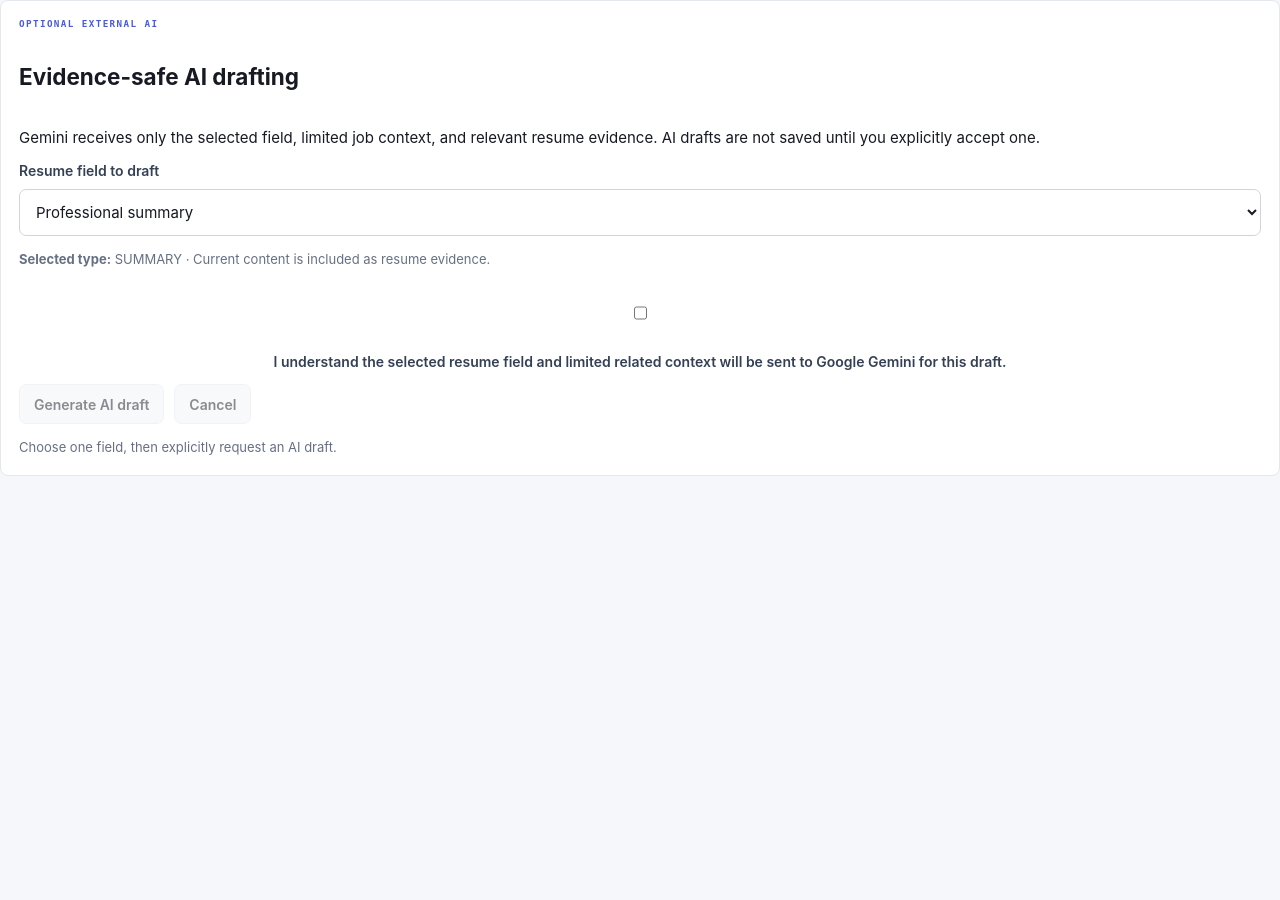
Test: AiDraftPanel › keeps retry explicit after a normalized failure
Click the checkbox labelled "I understand the selected resume field" at (640, 313), box [634,285,647,341]
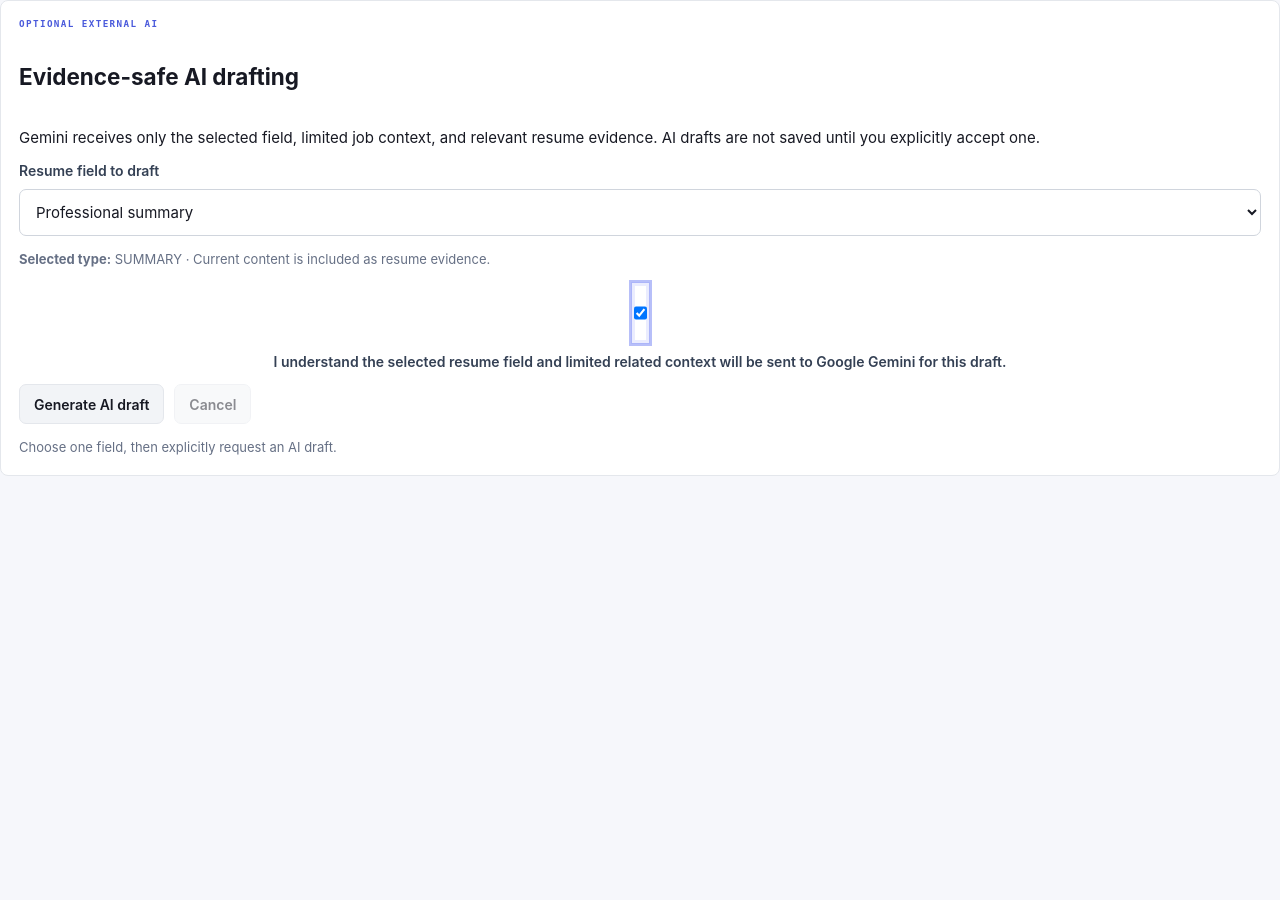
Click the button "Generate AI draft" at (92, 404), box [19,384,164,424]
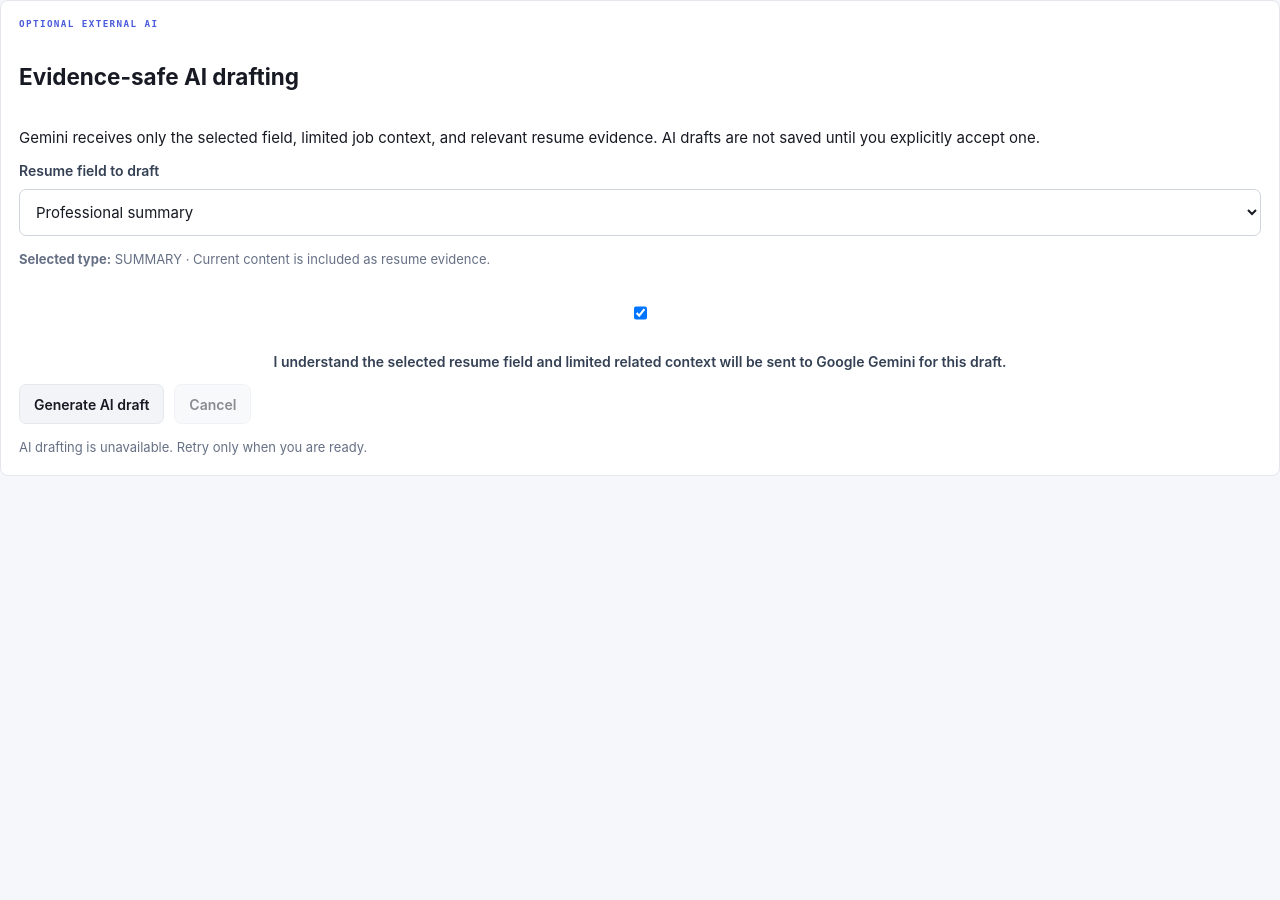
Click the button "Generate AI draft" at (92, 404), box [19,384,164,424]
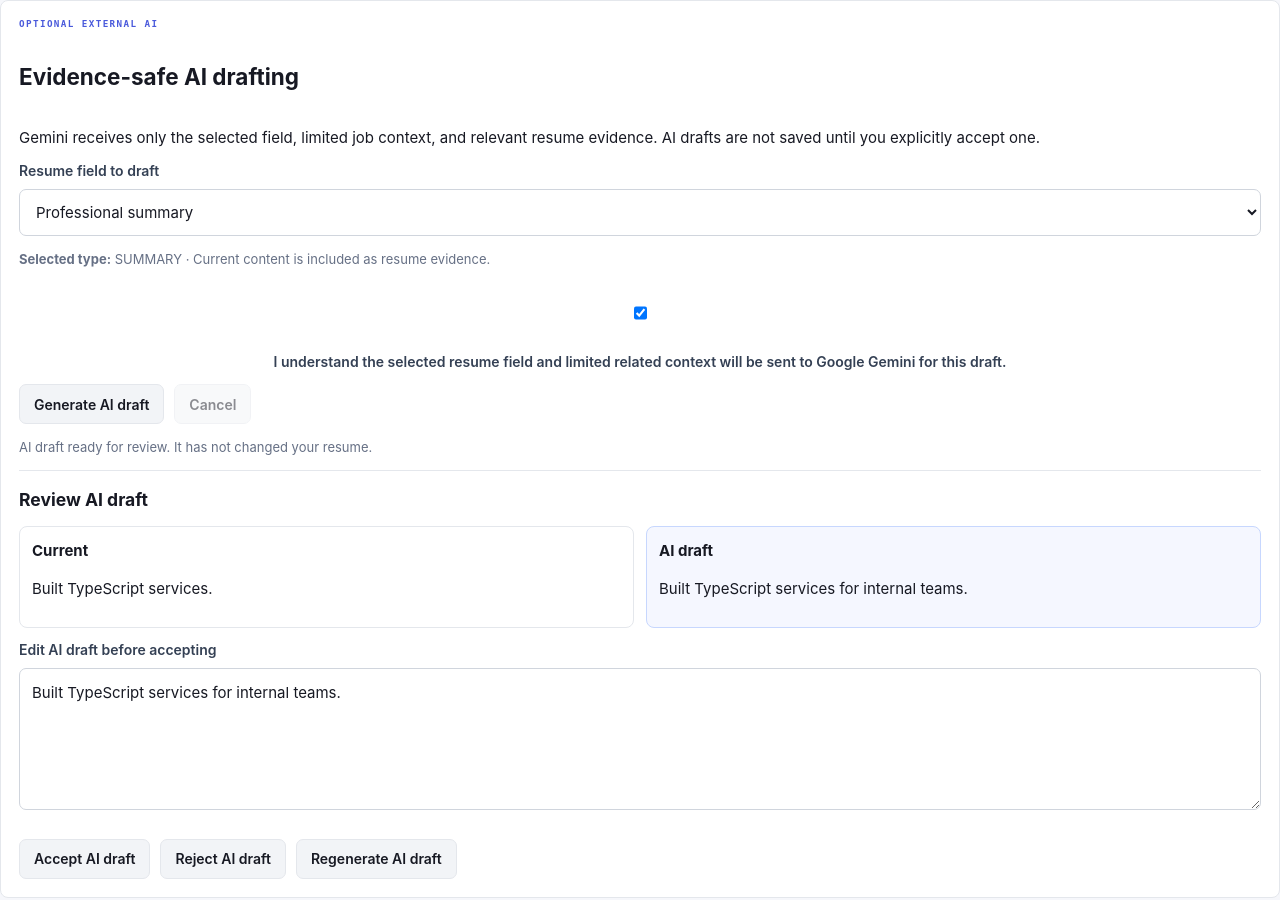
Result: the heading "Review AI draft" is shown at [19,489,148,510]
